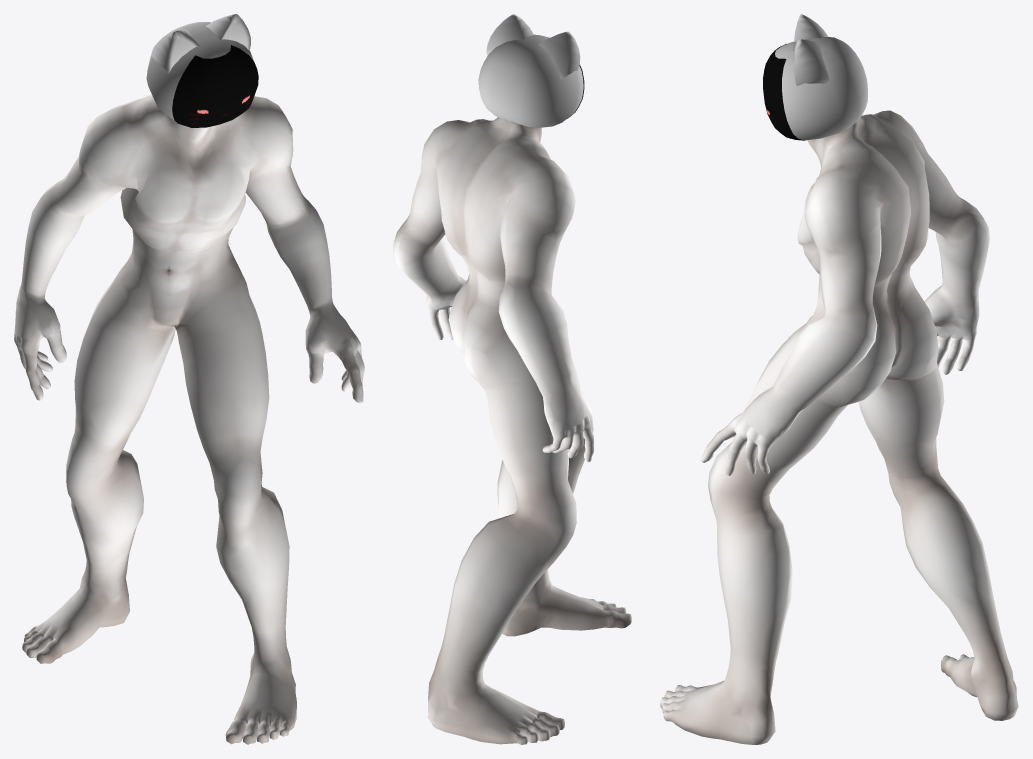
3 views of the same model, side by side, from view 1: azimuth 30°, elevation 25°; view 2: azimuth 150°, elevation 25°; view 3: azimuth 270°, elevation 25° (orthographic). The views are drawn at different scales.
Visible parts, largest first — view 1: Muscle_Body, ______?001, Cat_Head; view 2: Muscle_Body, Cat_Head; view 3: Muscle_Body, Cat_Head, ______?001.
Boxes of the visible parts, x1,y1,x2,y2 form: Muscle_Body: (14, 94, 364, 744); ______?001: (172, 45, 258, 127); Cat_Head: (146, 14, 253, 121); Muscle_Body: (393, 117, 631, 744); Cat_Head: (478, 14, 583, 127); Muscle_Body: (660, 110, 1018, 744); Cat_Head: (775, 14, 867, 140); ______?001: (763, 44, 804, 140).
Bounding box in the file's own units: 10.94 × 27.82 × 13.06.
